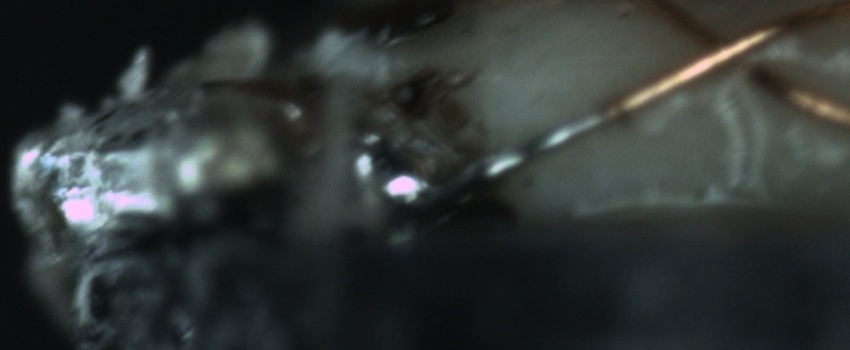CL: (675, 9, 797, 104)
TS: (415, 105, 599, 206)
TTCW: (406, 81, 654, 209)
